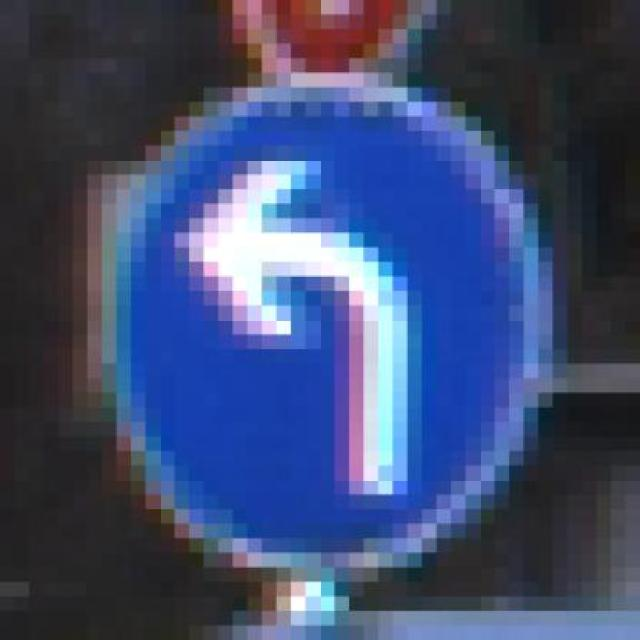Turn left ahead: (102, 73, 568, 582)
